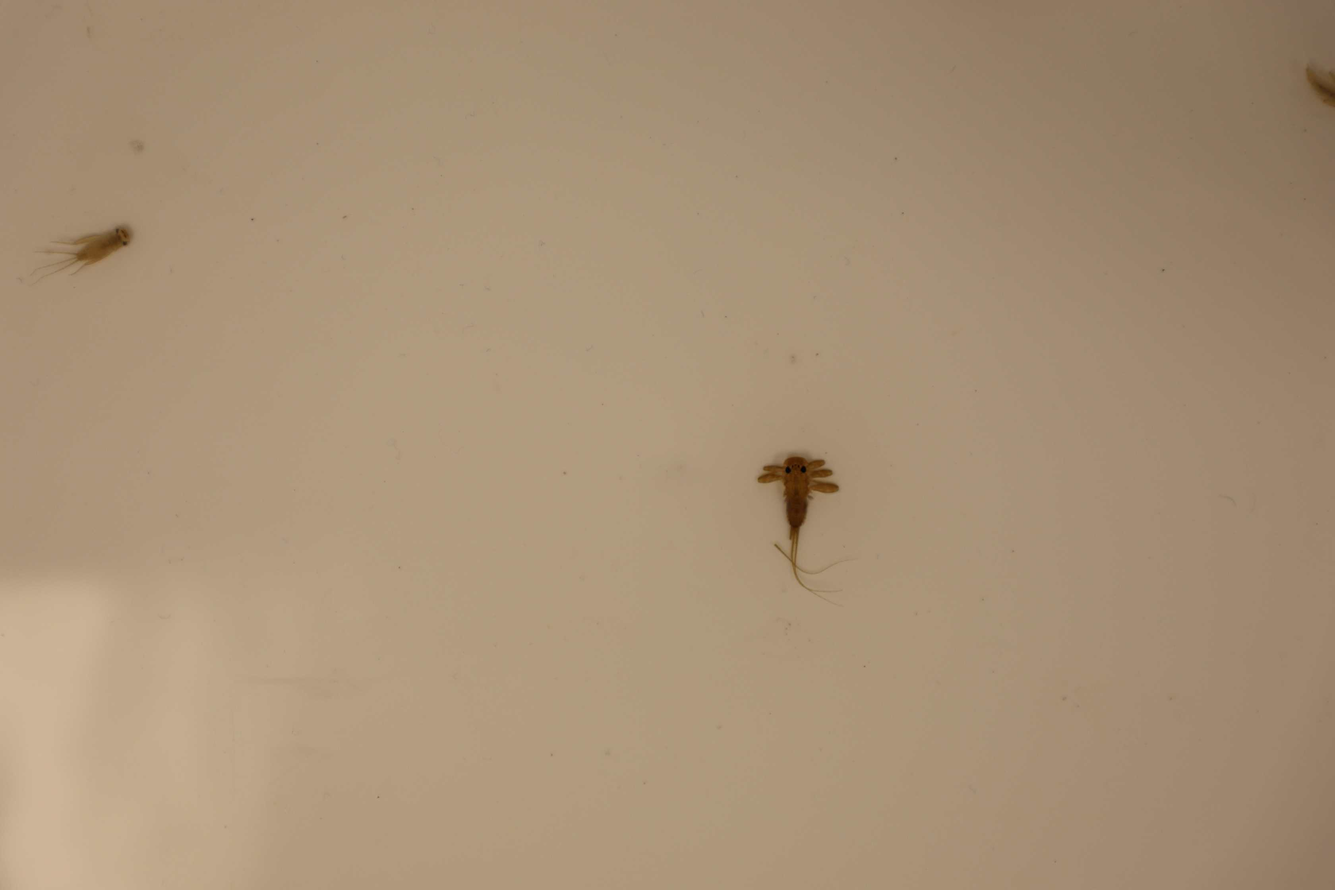Mayfly: (759, 452, 855, 602), (28, 214, 136, 289), (1302, 55, 1335, 146)
